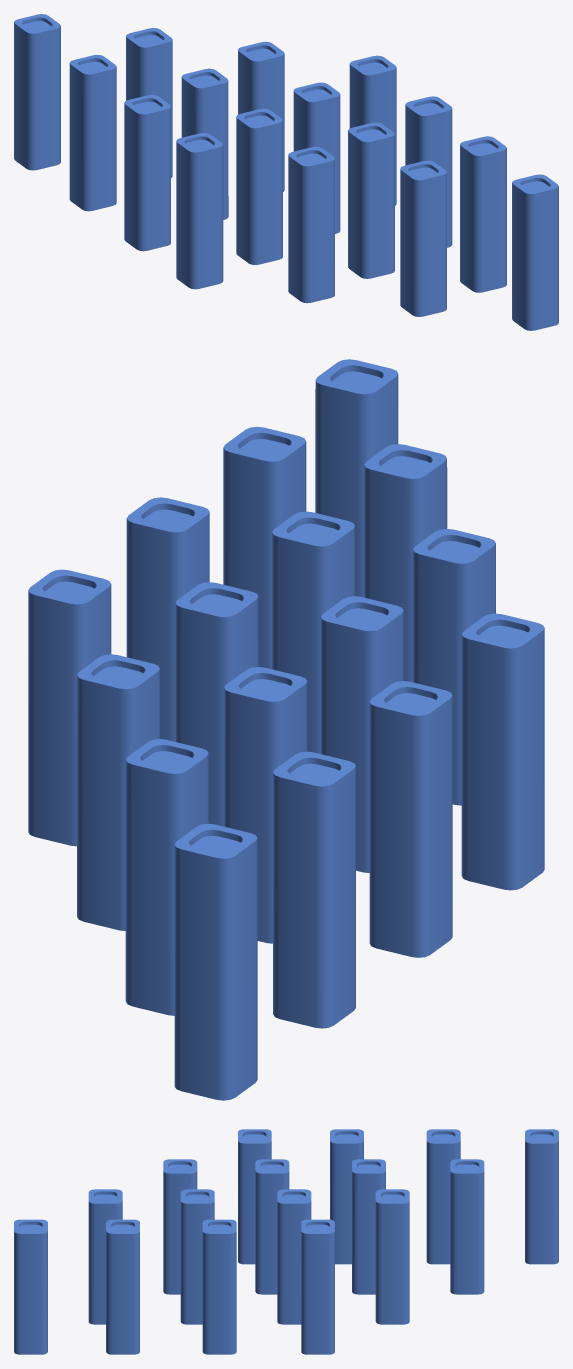
The model's file is softmultiple-space.fbx.
3 views of the same model, one above another, from view 1: azimuth 30°, elevation 25°; view 2: azimuth 150°, elevation 25°; view 3: azimuth 270°, elevation 25° (orthographic). The views are drawn at different scales.
Visible parts, largest first — view 1: Cube.008; view 2: Cube.008; view 3: Cube.008.
Boxes of the visible parts, x1,y1,x2,y2 form: Cube.008: [14, 14, 558, 330]; Cube.008: [28, 359, 544, 1100]; Cube.008: [14, 1129, 558, 1354].
Size of the model in its own units: 164 by 88.41 by 361.
